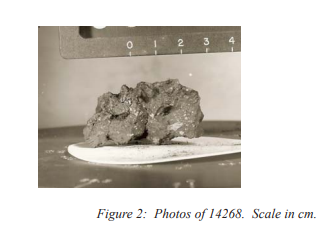Breccia: (81, 74, 216, 149)
